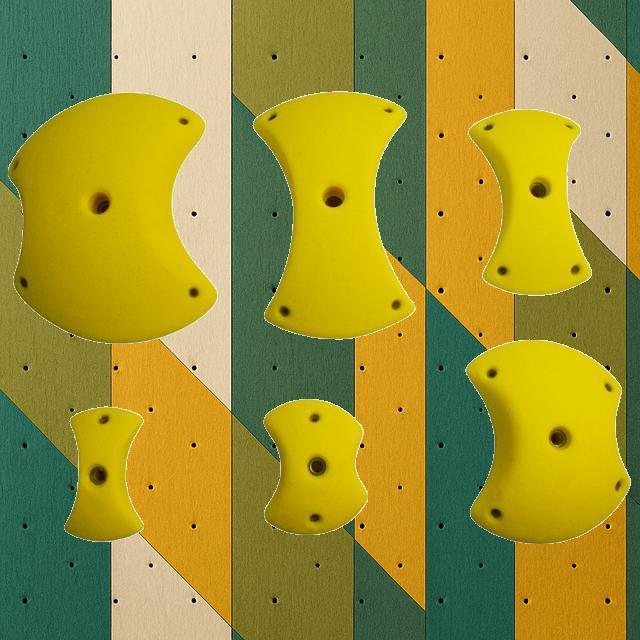Pinch: (7, 90, 217, 344), (252, 90, 416, 338), (466, 338, 630, 544), (468, 107, 592, 295), (262, 398, 368, 534), (64, 406, 144, 542)
